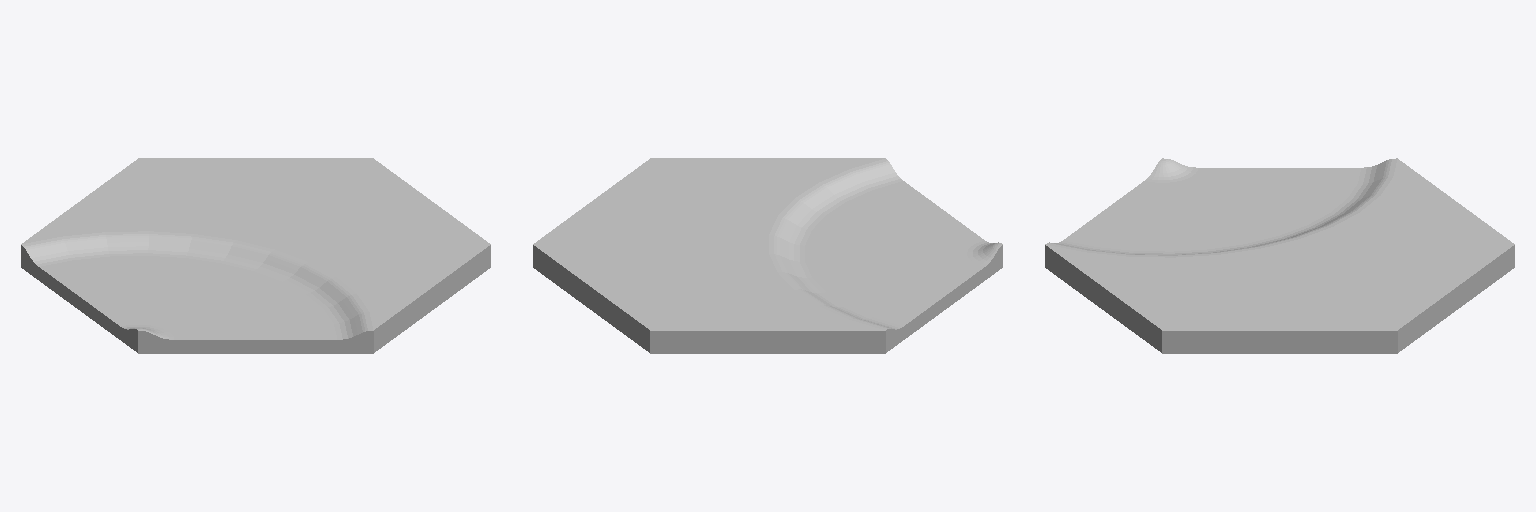
The model's file is Track_Flat_Curve_Sharp.obj.
The picture shows the model from 3 angles: view 1: azimuth 30°, elevation 25°; view 2: azimuth 150°, elevation 25°; view 3: azimuth 270°, elevation 25°; orthographic projection.
Parts seen in each view (by area): view 1: object1; view 2: object1; view 3: object1.
Part boxes in pixels (left/top/right/bottom): object1: left=21, top=158, right=490, bottom=353; object1: left=533, top=158, right=1002, bottom=353; object1: left=1045, top=158, right=1514, bottom=353.
Bounding box in the file's own units: 1 × 0.0625 × 1.15.